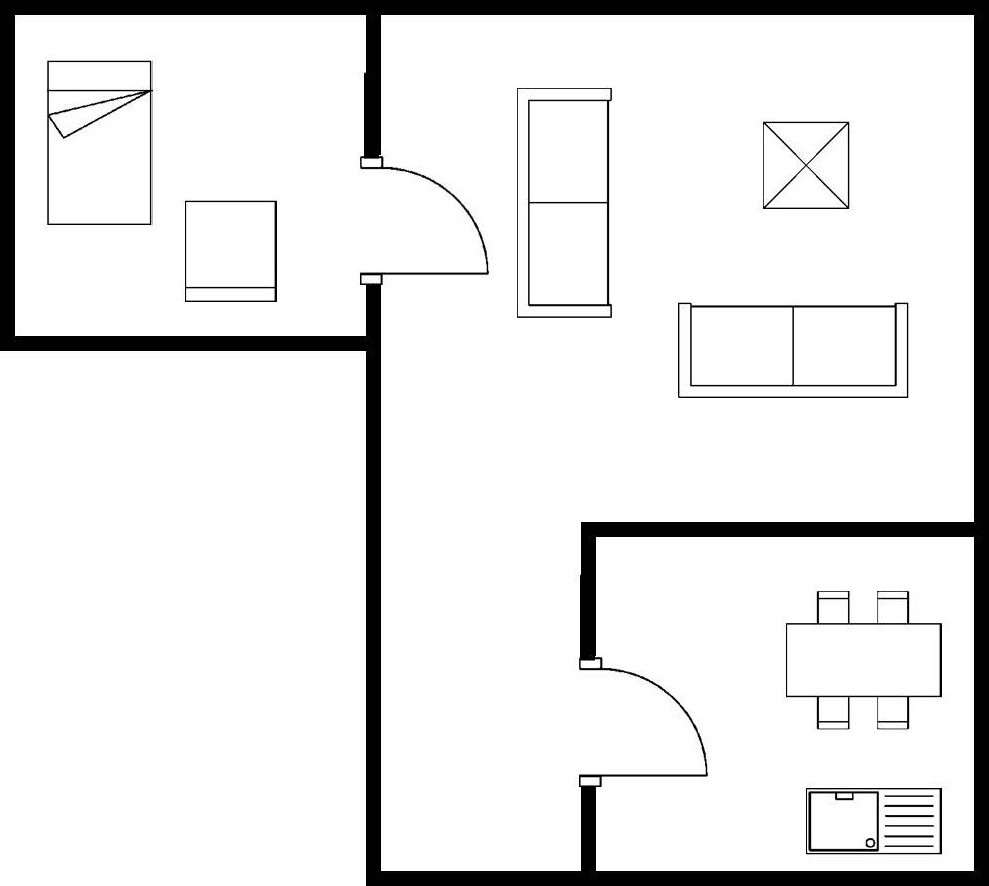bed: (41, 55, 157, 230)
coffee_table: (759, 117, 854, 216)
dining_table: (782, 586, 948, 736)
large_sofa: (512, 82, 619, 325), (670, 298, 913, 404)
sink: (799, 783, 946, 862)
small_sofa: (179, 196, 282, 307)
